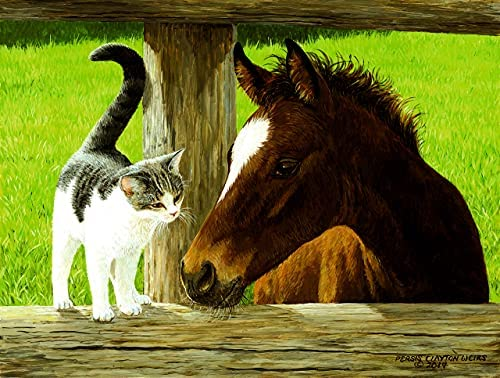Cat: (48, 37, 183, 321)
Horse: (198, 44, 471, 311)
